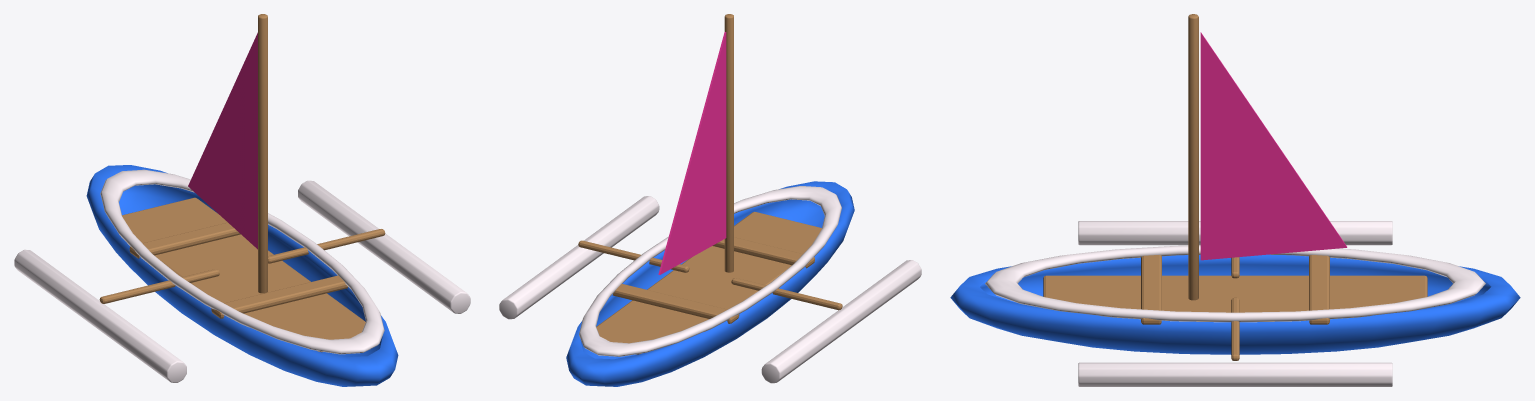
File: perahu.glb
The picture shows the model from 3 angles, left to right: view 1: azimuth 30°, elevation 25°; view 2: azimuth 150°, elevation 25°; view 3: azimuth 270°, elevation 25°; orthographic projection. The views are drawn at different scales.
Parts seen in each view (by area): view 1: Sphere, Cube, layar, Torus, Cylinder.001, Cylinder.002, Cylinder, Cube.001, Cube.002, Cube.003, Cube.004; view 2: Sphere, Cube, layar, Torus, Cylinder.001, Cylinder.002, Cylinder, Cube.002, Cube.001, Cube.003, Cube.004; view 3: Sphere, layar, Cube, Torus, Cylinder.002, Cylinder.001, Cylinder, Cube.001, Cube.002, Cube.004.
Boxes of the visible parts, bbox=[...] form: Sphere: bbox=[86, 165, 398, 386]; Cube: bbox=[122, 197, 365, 352]; layar: bbox=[188, 32, 257, 249]; Torus: bbox=[100, 169, 384, 354]; Cylinder.001: bbox=[14, 249, 186, 382]; Cylinder.002: bbox=[298, 180, 470, 313]; Cylinder: bbox=[258, 14, 267, 293]; Cube.001: bbox=[211, 275, 347, 318]; Cube.002: bbox=[129, 222, 268, 258]; Cube.003: bbox=[99, 269, 219, 303]; Cube.004: bbox=[268, 229, 385, 263]; Sphere: bbox=[566, 181, 854, 386]; Cube: bbox=[596, 211, 821, 354]; layar: bbox=[658, 32, 726, 274]; Torus: bbox=[579, 186, 841, 356]; Cylinder.001: bbox=[761, 260, 921, 383]; Cylinder.002: bbox=[499, 196, 659, 319]; Cylinder: bbox=[724, 14, 733, 272]; Cube.002: bbox=[612, 284, 739, 323]; Cube.001: bbox=[712, 237, 814, 268]; Cube.003: bbox=[731, 278, 842, 310]; Cube.004: bbox=[578, 240, 689, 272]; Sphere: bbox=[950, 254, 1520, 354]; layar: bbox=[1200, 32, 1347, 260]; Cube: bbox=[1043, 275, 1427, 312]; Torus: bbox=[985, 245, 1485, 322]; Cylinder.002: bbox=[1078, 362, 1392, 386]; Cylinder.001: bbox=[1078, 221, 1392, 245]; Cylinder: bbox=[1188, 14, 1198, 300]; Cube.001: bbox=[1141, 255, 1161, 324]; Cube.002: bbox=[1309, 255, 1329, 324]; Cube.004: bbox=[1231, 297, 1239, 360].
Size of the model in its own units: 5.14 by 5.17 by 8.16.
